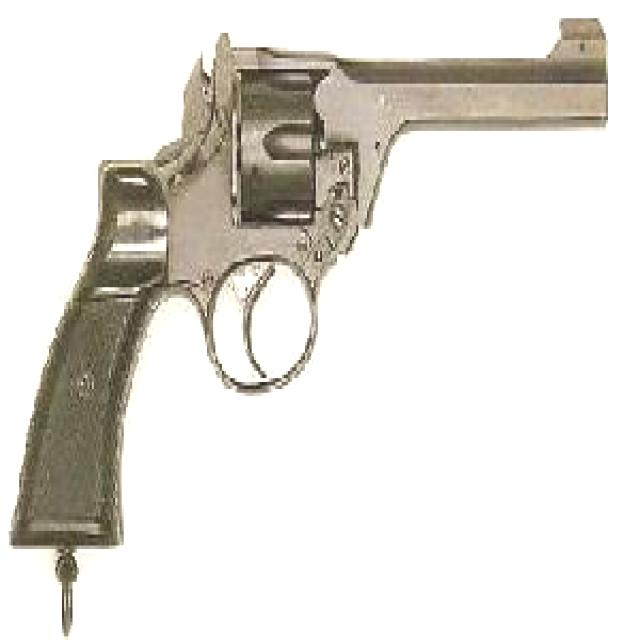pistol: (4, 11, 608, 542)
